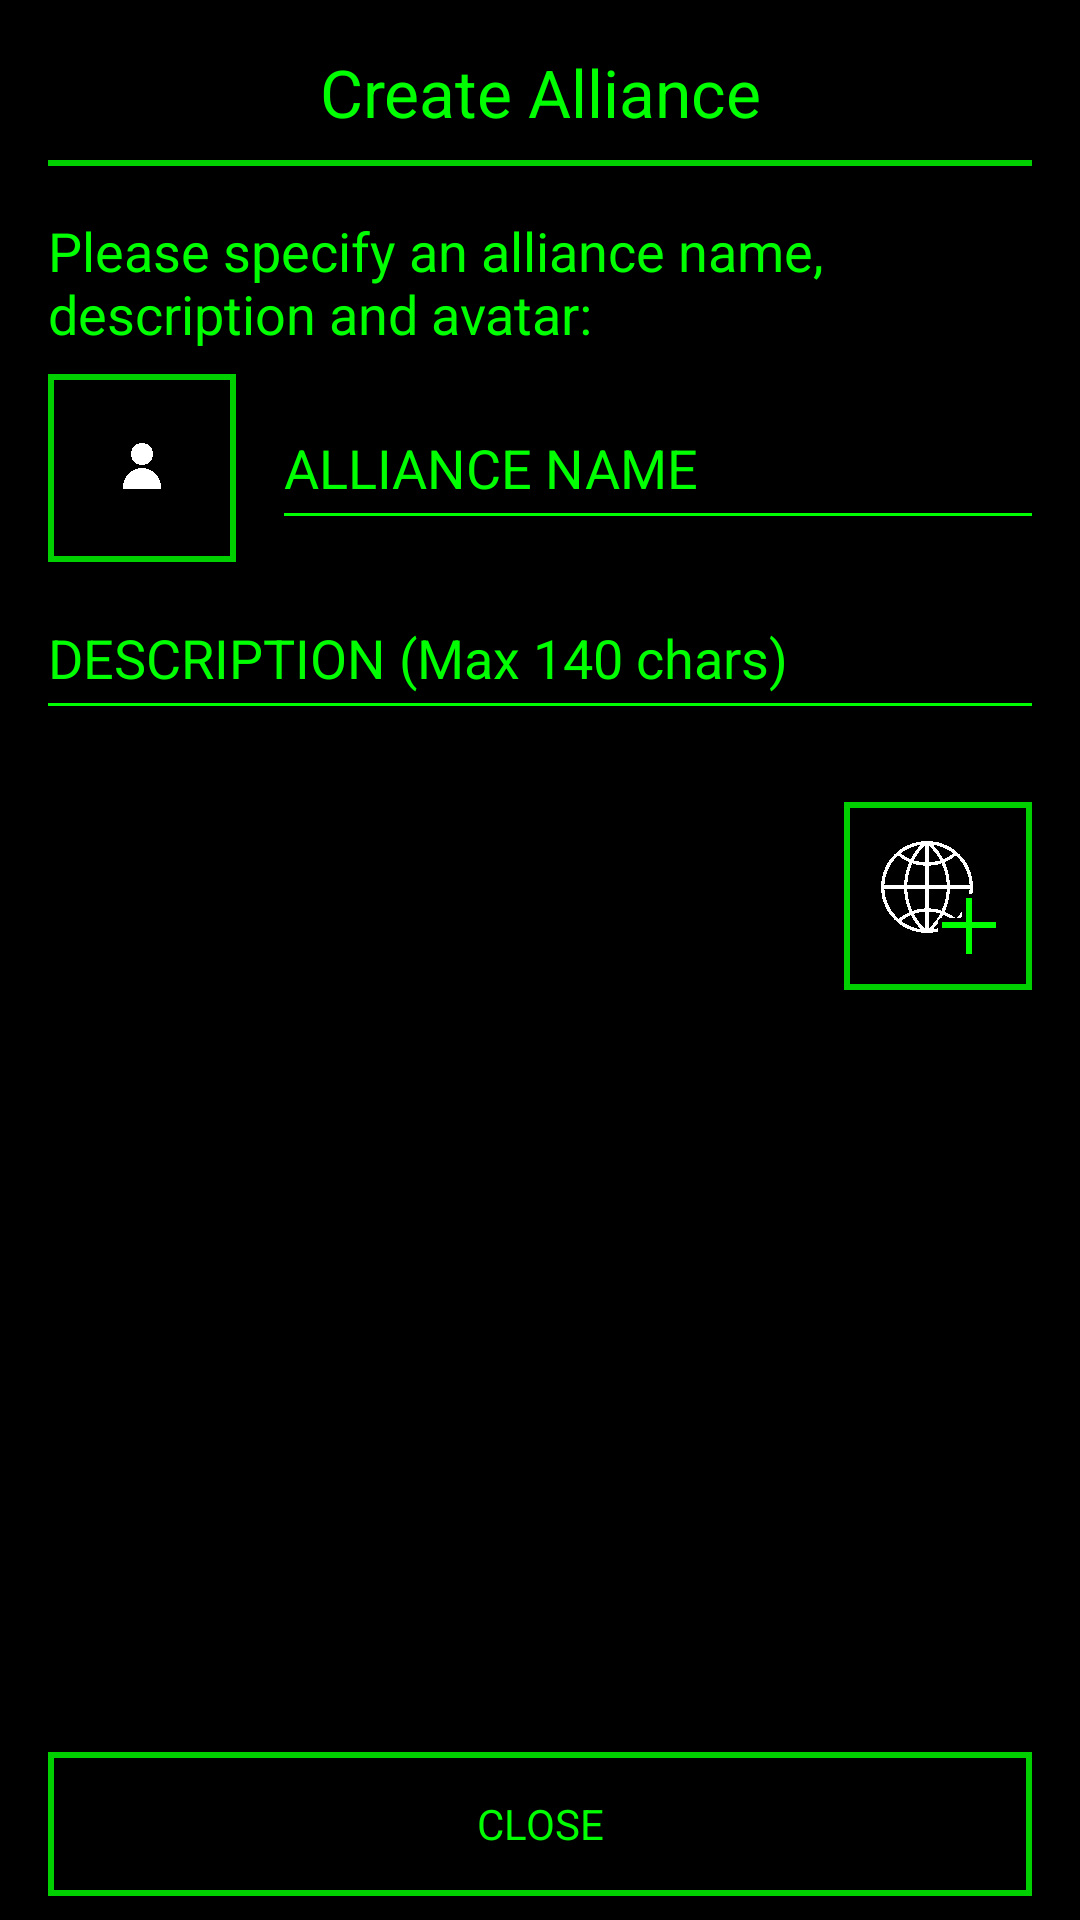

Icon bounding boxes for this 1080 × 1920 phone screenshot, format (x1, y1, x2, y2):
alliance create: (844, 802, 1032, 990)
